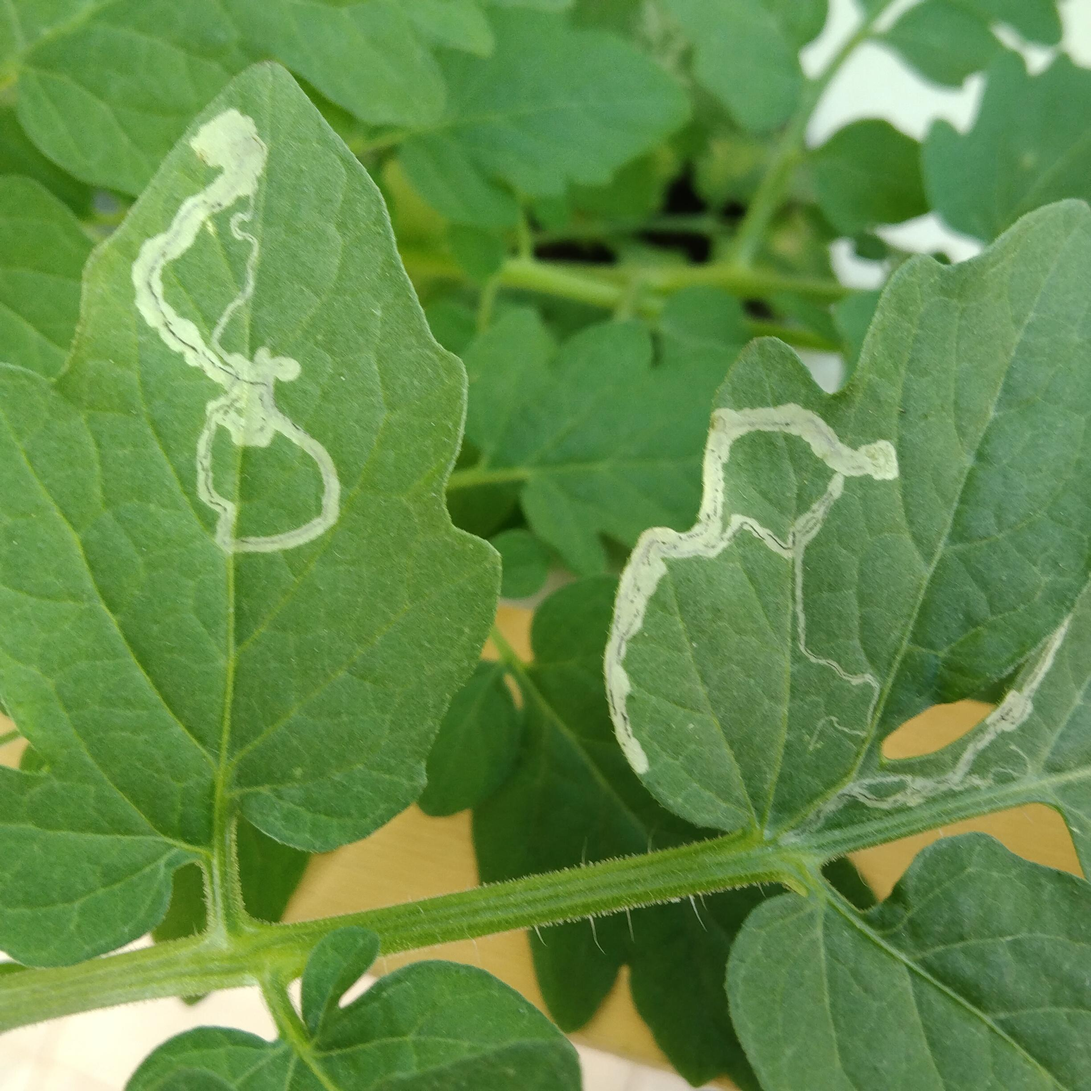Leaf_Miner: (118, 0, 1058, 515), (247, 593, 771, 1091)
